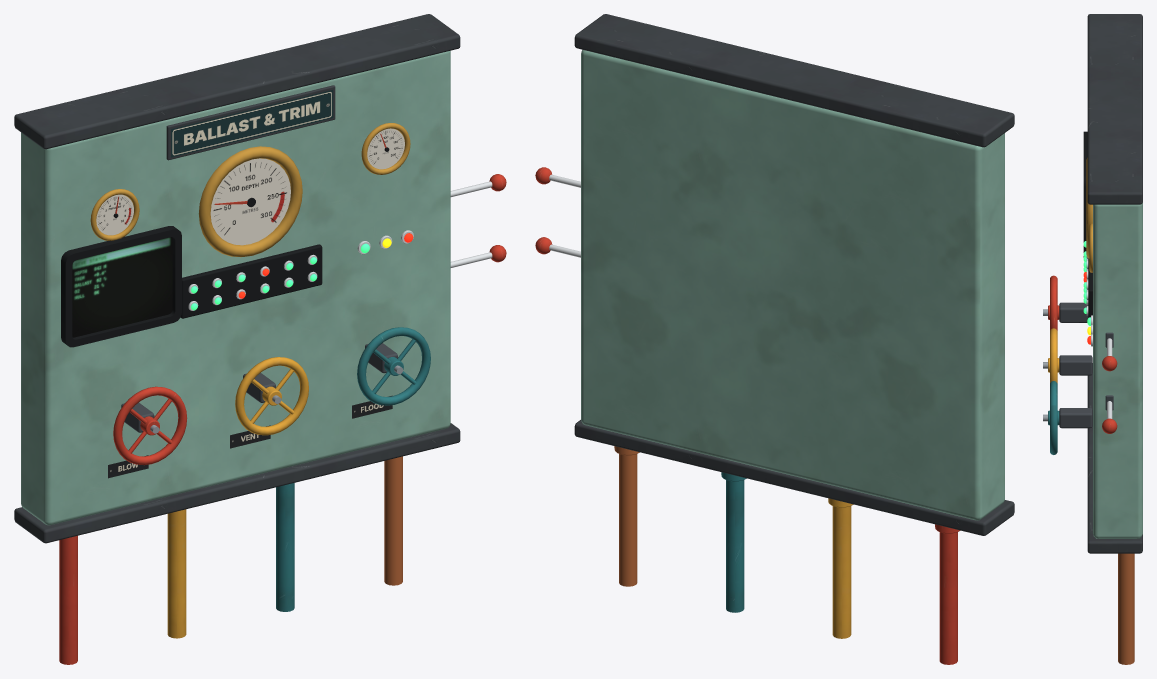
The model's file is BallastPanel.glb.
The picture shows the model from 3 angles, left to right: view 1: azimuth 30°, elevation 25°; view 2: azimuth 150°, elevation 25°; view 3: azimuth 270°, elevation 25°; orthographic projection. The views are drawn at different scales.
Visible parts, largest first — view 1: BallastPanel_Body, BallastPanel_VentValve, BallastPanel_BlowValve, BallastPanel_FloodValve; view 2: BallastPanel_Body; view 3: BallastPanel_Body, BallastPanel_FloodValve, BallastPanel_BlowValve, BallastPanel_VentValve, BallastPanel_TrimLever2, BallastPanel_TrimLever1.
Part boxes in pixels (x1=…): BallastPanel_Body: x1=14, y1=14, x2=460, y2=664; BallastPanel_VentValve: x1=235, y1=357, x2=308, y2=435; BallastPanel_BlowValve: x1=113, y1=386, x2=187, y2=465; BallastPanel_FloodValve: x1=357, y1=327, x2=430, y2=405; BallastPanel_Body: x1=574, y1=14, x2=1014, y2=664; BallastPanel_Body: x1=1059, y1=14, x2=1142, y2=664; BallastPanel_FloodValve: x1=1043, y1=381, x2=1059, y2=454; BallastPanel_BlowValve: x1=1043, y1=275, x2=1059, y2=330; BallastPanel_VentValve: x1=1043, y1=328, x2=1059, y2=383; BallastPanel_TrimLever2: x1=1102, y1=332, x2=1117, y2=371; BallastPanel_TrimLever1: x1=1102, y1=395, x2=1117, y2=433.
Bounding box in the file's own units: 1.75 × 1.94 × 0.3604.
Materials: 22 (13 with a texture image).
